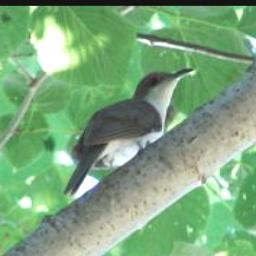Cuckoo: (61, 66, 197, 199)
